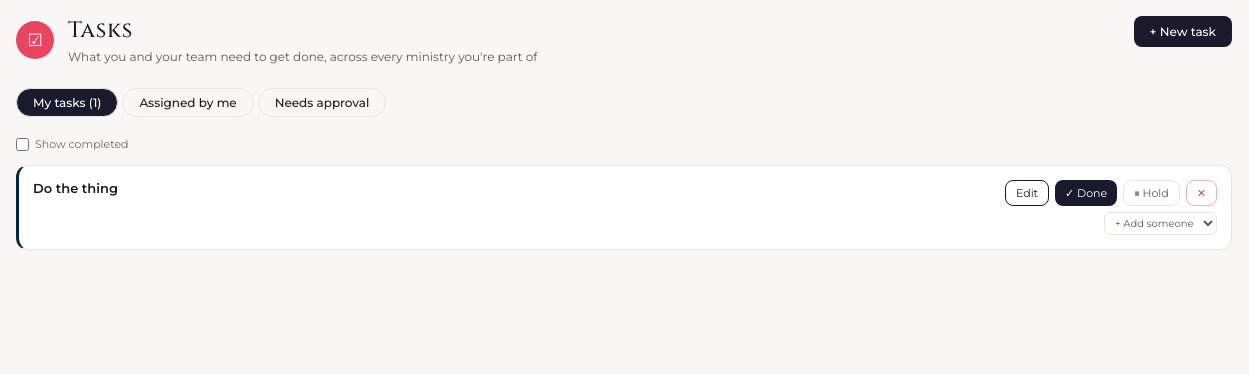
cancelling the completion notes field leaves the task open
The image size is (1249, 374).
Click the button "✓ Done": (1086,193) x1=1055 y1=180 x2=1117 y2=206
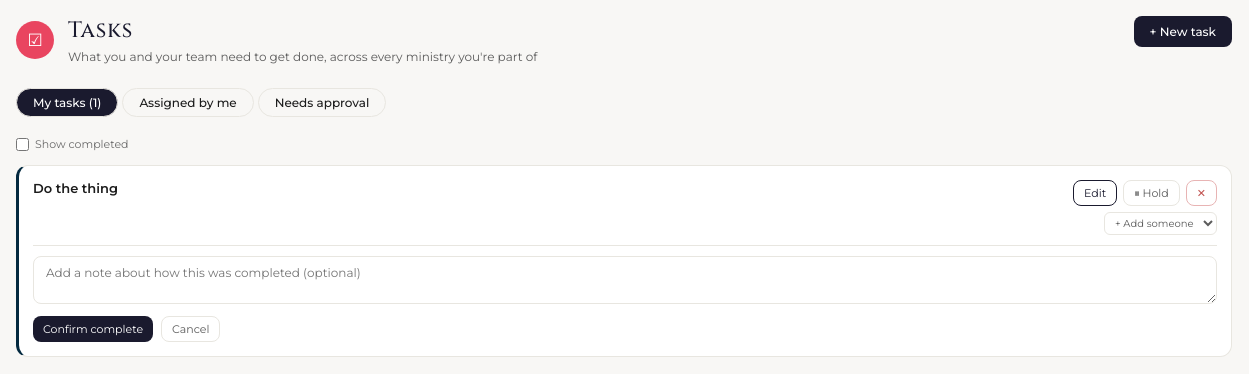
expect the button "Confirm complete" is shown: met, box x1=33 y1=316 x2=153 y2=342
Click the button "Cancel": (191,329) x1=161 y1=316 x2=220 y2=342
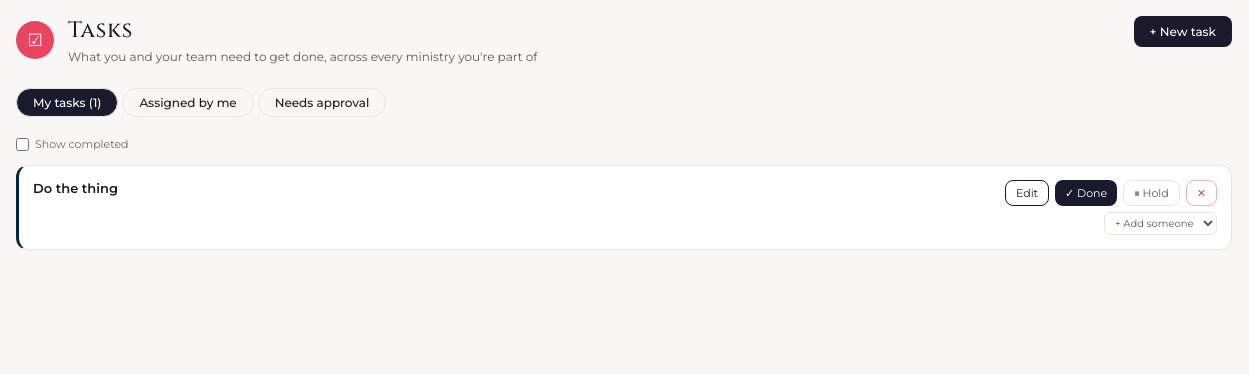
expect the button "Confirm complete" is gone: met
